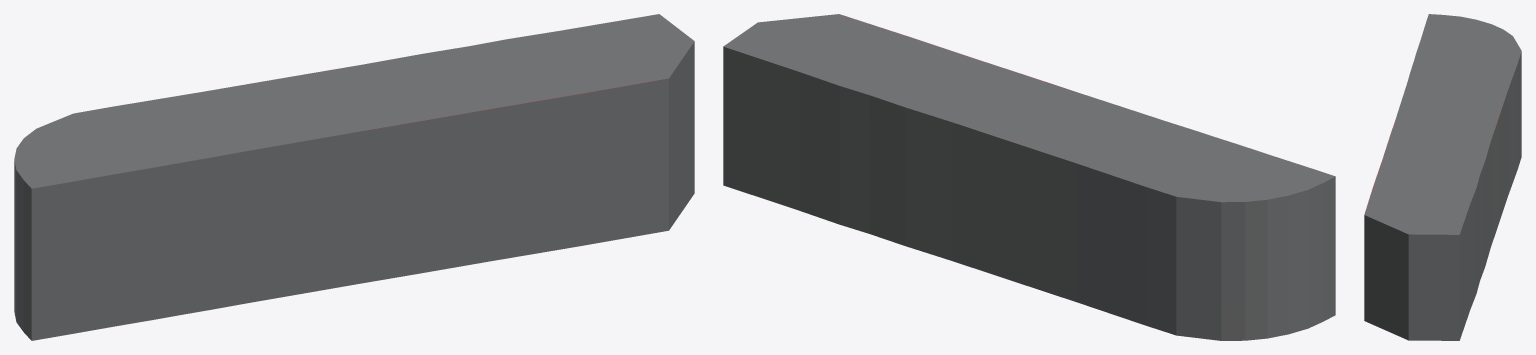
3 views of the same model, side by side, from view 1: azimuth 30°, elevation 25°; view 2: azimuth 150°, elevation 25°; view 3: azimuth 270°, elevation 25° (orthographic). The views are drawn at different scales.
Parts seen in each view (by area): view 1: 8_5; view 2: 8_5; view 3: 8_5.
Boxes of the visible parts, x1,y1,x2,y2 form: 8_5: [14, 14, 694, 340]; 8_5: [723, 14, 1335, 340]; 8_5: [1364, 14, 1521, 340].
Size of the model in its own units: 0.0508 by 0.0114 by 0.0153.
1 material, 1 textured.
